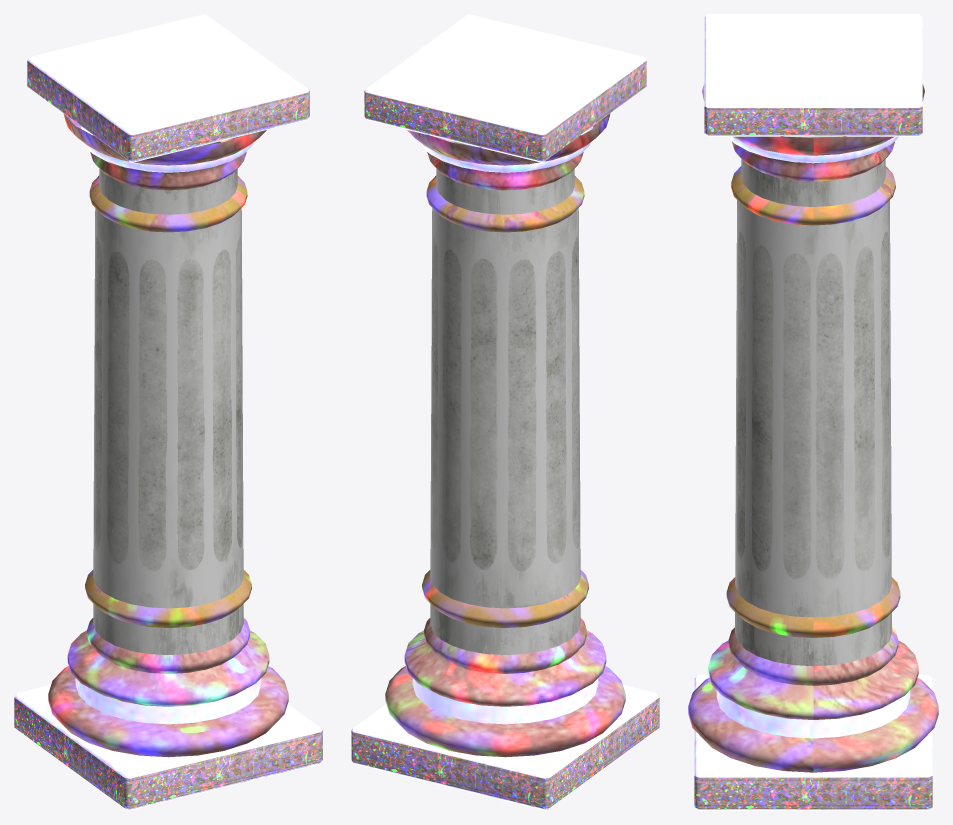
File: doric_collum_SM.fbx
3 renders of one model, left to right at view 1: azimuth 30°, elevation 25°; view 2: azimuth 150°, elevation 25°; view 3: azimuth 270°, elevation 25°, orthographic. The views are drawn at different scales.
Visible parts, largest first — view 1: doric_collum_SM_LOD0; view 2: doric_collum_SM_LOD0; view 3: doric_collum_SM_LOD0.
Boxes of the visible parts, x1,y1,x2,y2 form: doric_collum_SM_LOD0: (14, 14, 322, 810); doric_collum_SM_LOD0: (351, 14, 659, 810); doric_collum_SM_LOD0: (688, 14, 938, 810).
Size of the model in its own units: 94.89 by 94.89 by 294.
Materials: 5 (4 with a texture image).
